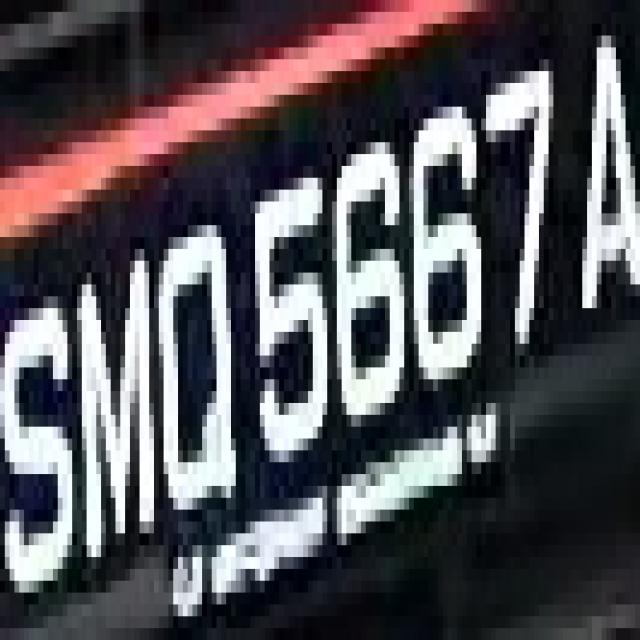5: (246, 130, 342, 486)
6: (298, 107, 399, 462), (385, 94, 491, 427)
7: (472, 0, 563, 356)
A: (558, 12, 640, 344)
M: (63, 225, 158, 593)
Q: (154, 166, 245, 557)
S: (10, 225, 77, 605)
